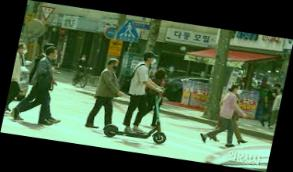nonhelmet: (101, 45, 185, 146)
